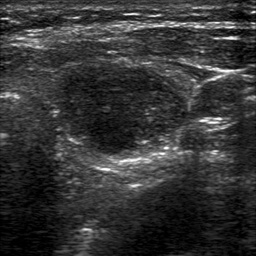mass: (61, 61, 190, 153)
